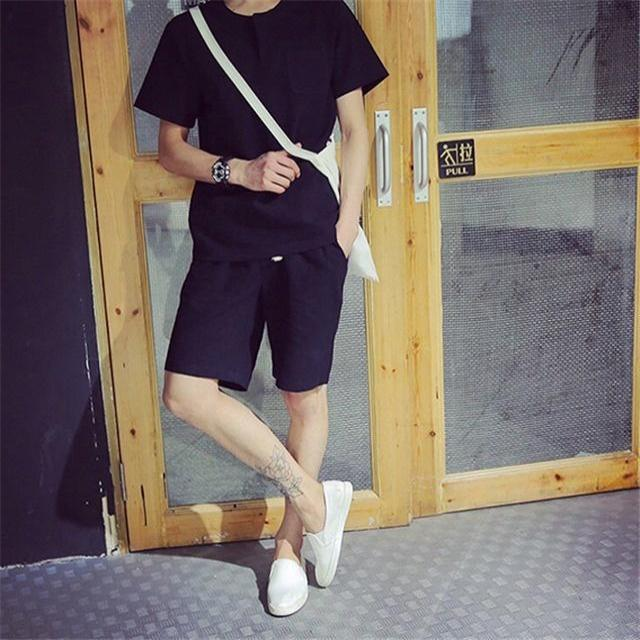short sleeve top: (136, 1, 386, 261)
shorts: (164, 229, 340, 387)
